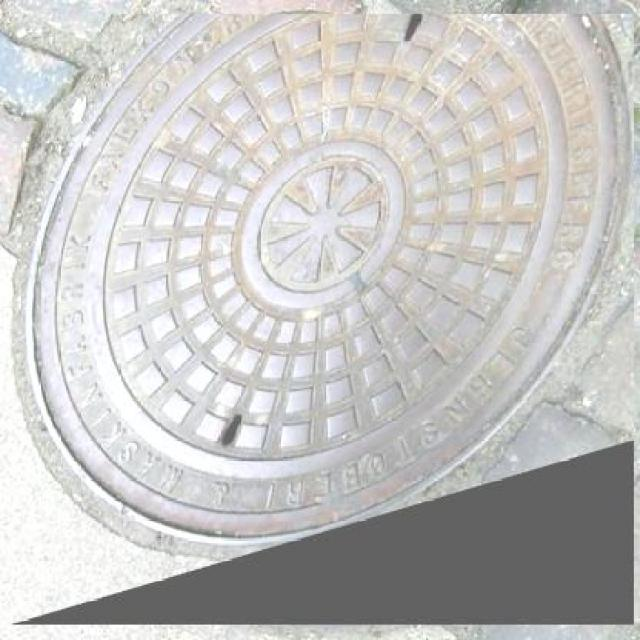Manhole: (9, 13, 634, 624)
